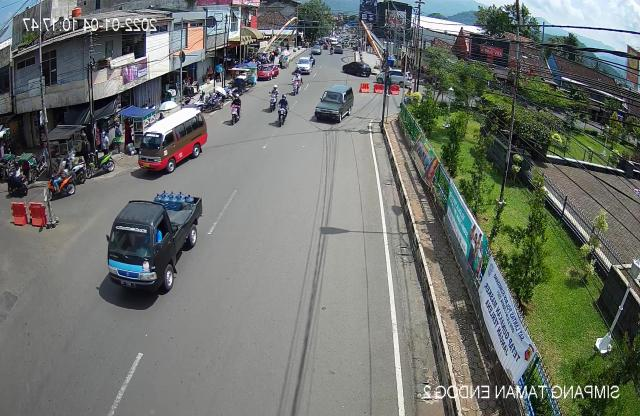Mobil: (94, 189, 208, 308), (132, 102, 210, 183), (312, 83, 355, 127)
Motor: (45, 154, 88, 202), (86, 146, 116, 180), (275, 92, 290, 130), (226, 93, 242, 124), (264, 84, 278, 114), (289, 71, 303, 96)
